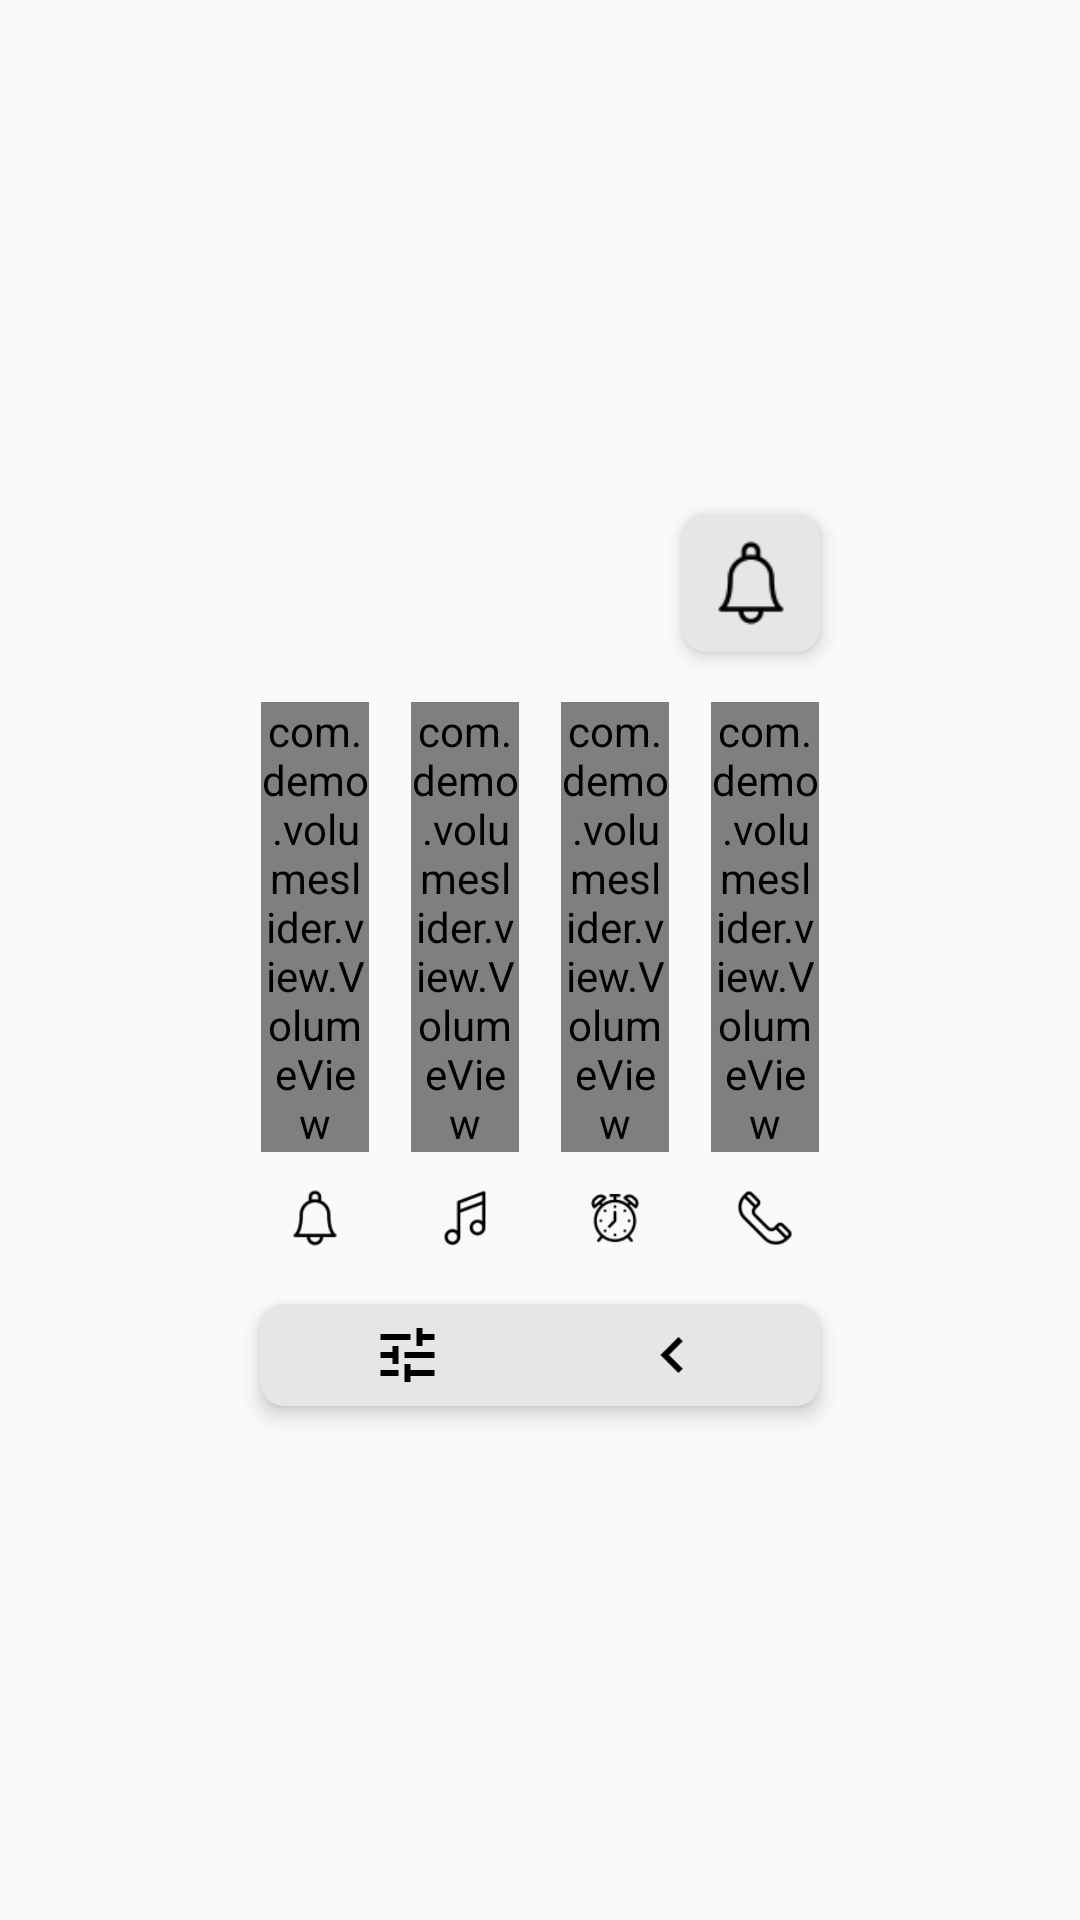

Icons on this 1080px×1920px Android screen, each with its box as (x1, y1, x2, y2):
alram: (591, 1194, 639, 1242)
call: (738, 1191, 792, 1245)
music: (444, 1190, 486, 1246)
navigate before: (660, 1337, 683, 1373)
ring: (718, 541, 784, 625), (293, 1190, 337, 1246)
tune: (380, 1328, 435, 1382)
